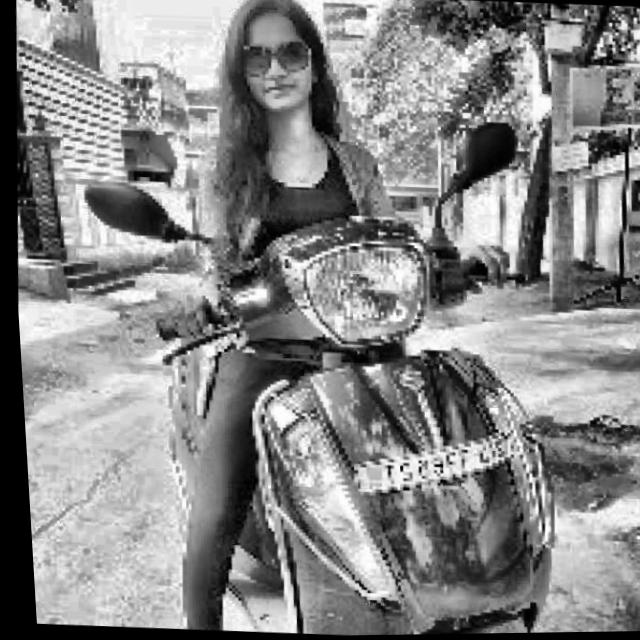motorcycle: (43, 96, 613, 640)
